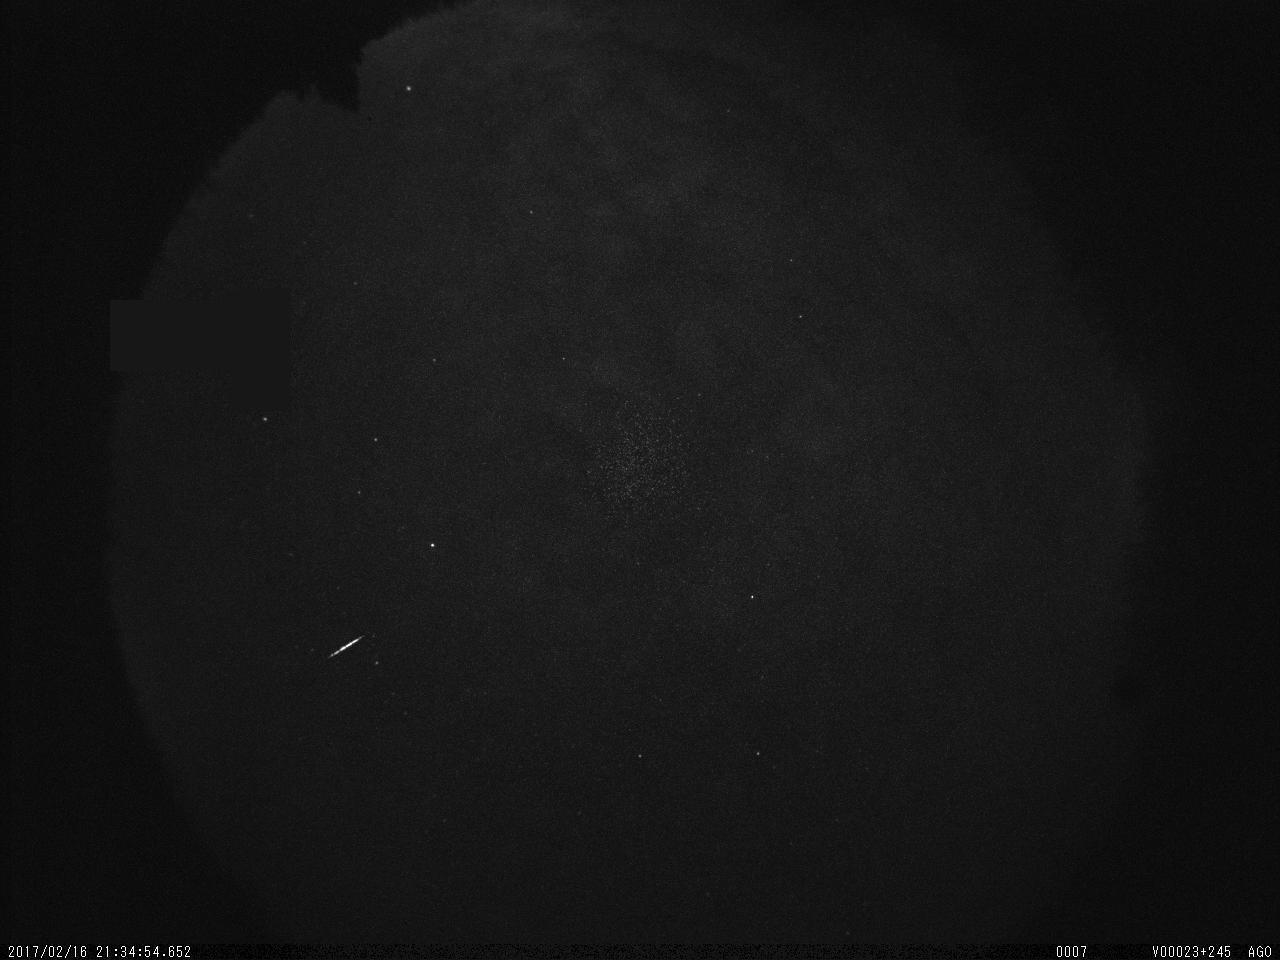Meteor: (325, 632, 366, 659)
